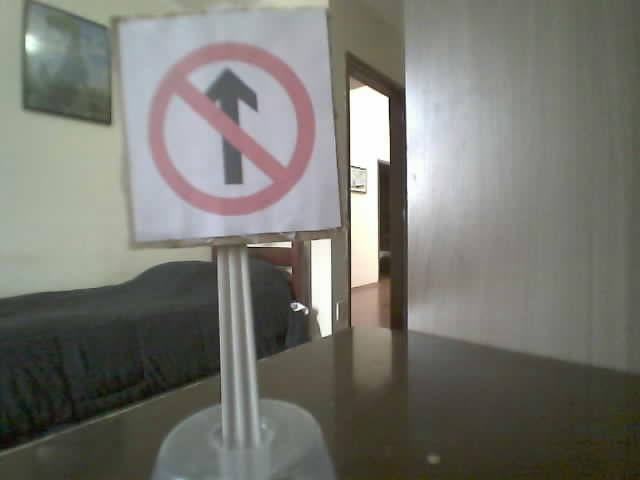R-3_sentido-proibido: (146, 40, 316, 215)
